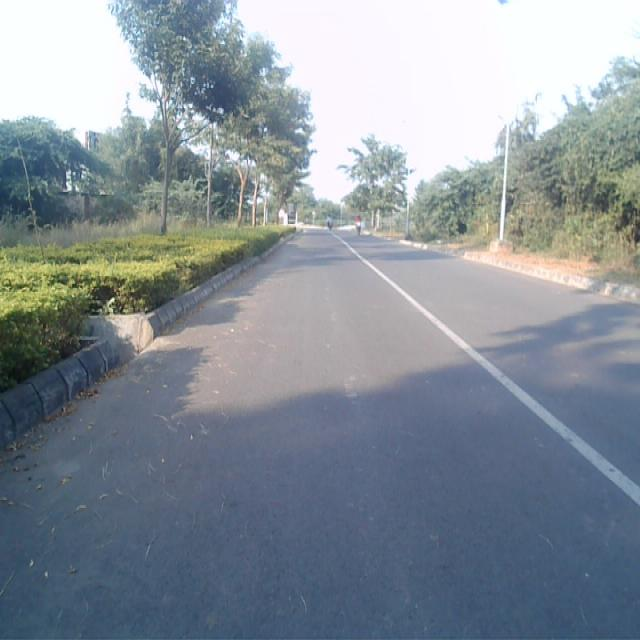lane: (0, 235, 640, 640)
